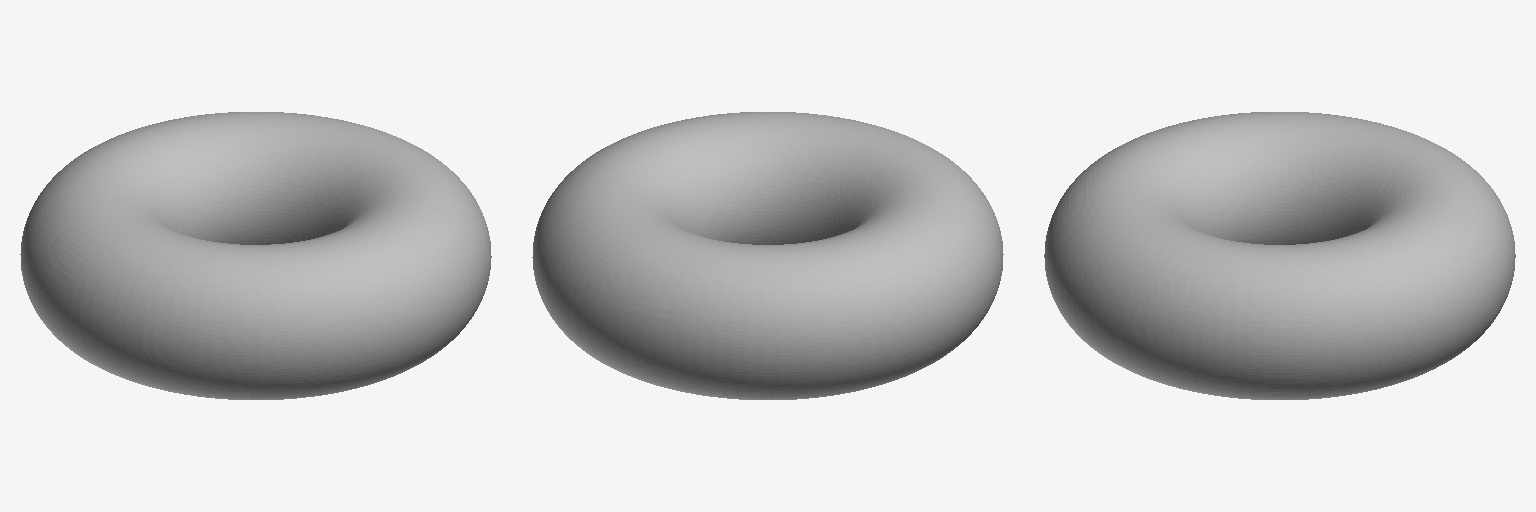
The robot description file, URDF, robot "root":
<robot name="root">
  <link name="link_001">
    <visual>
      <origin xyz="0 0 0" rpy="0 0 0"/>
      <geometry>
        <mesh filename="torusmedium.obj" scale="0.600E+00 0.600E+00 0.6000E+00"/>
      </geometry>
      <material name="">
        <color rgba="7.50E-01 7.50E-01 7.50E-01 1"/>
      </material>
    </visual>
    <collision>
      <origin xyz="0 0 0" rpy="0 0 0"/>
      <geometry>
        <mesh filename="torusmedium.obj" scale="0.6000E+00 0.6000E+00 0.6000E+00"/>
      </geometry>
    </collision>
    <inertial>
      <mass value="0.16"/> <!-- 质量：0.1kg -->
    </inertial>
  </link>
</robot>

--- Render facts (derived) ---
3 views of the same robot in one strip: view 1: azimuth 30°, elevation 25°; view 2: azimuth 150°, elevation 25°; view 3: azimuth 270°, elevation 25° (orthographic).
Robot: root — 1 links, 0 joints (none); root link link_001; default pose: every joint at zero.
Links seen in each view (by area): view 1: link_001; view 2: link_001; view 3: link_001.
Boxes of the visible links, x1,y1,x2,y2 form: link_001: [20, 112, 491, 399]; link_001: [532, 112, 1003, 399]; link_001: [1044, 112, 1515, 399].
Bounding box of the posed robot: 0.0481 × 0.0481 × 0.0159 m (x, y, z).
Meshes: 1 distinct files referenced, 1 mesh visuals loaded (1 OBJ).
